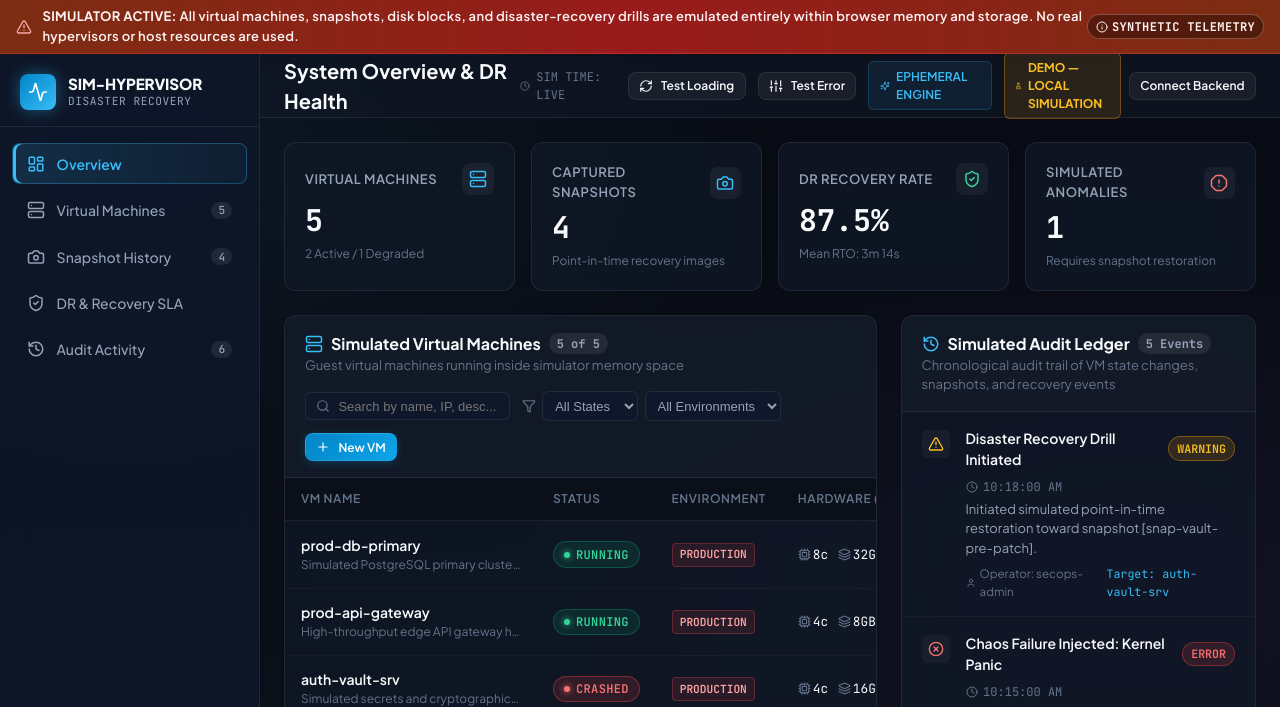
App Dashboard Shell & Navigation › navigates to DR & Recovery SLA view
Click the button with test id "nav-dr-metrics".
click(130, 303)  # box [12,282,247,323]
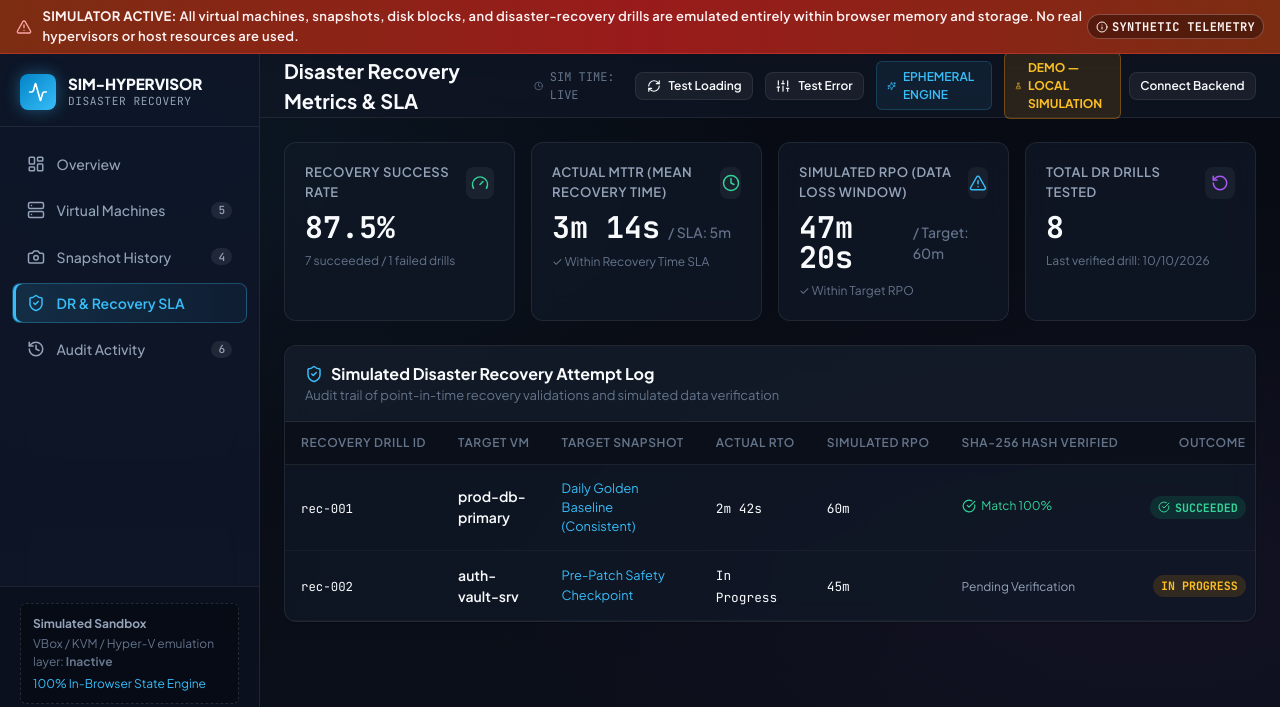
Now the heading "Disaster Recovery Metrics & SLA" is shown, box [284,58,460,113]
Now the element with test id "dr-metrics-section" is shown, box [284,142,1256,622]
